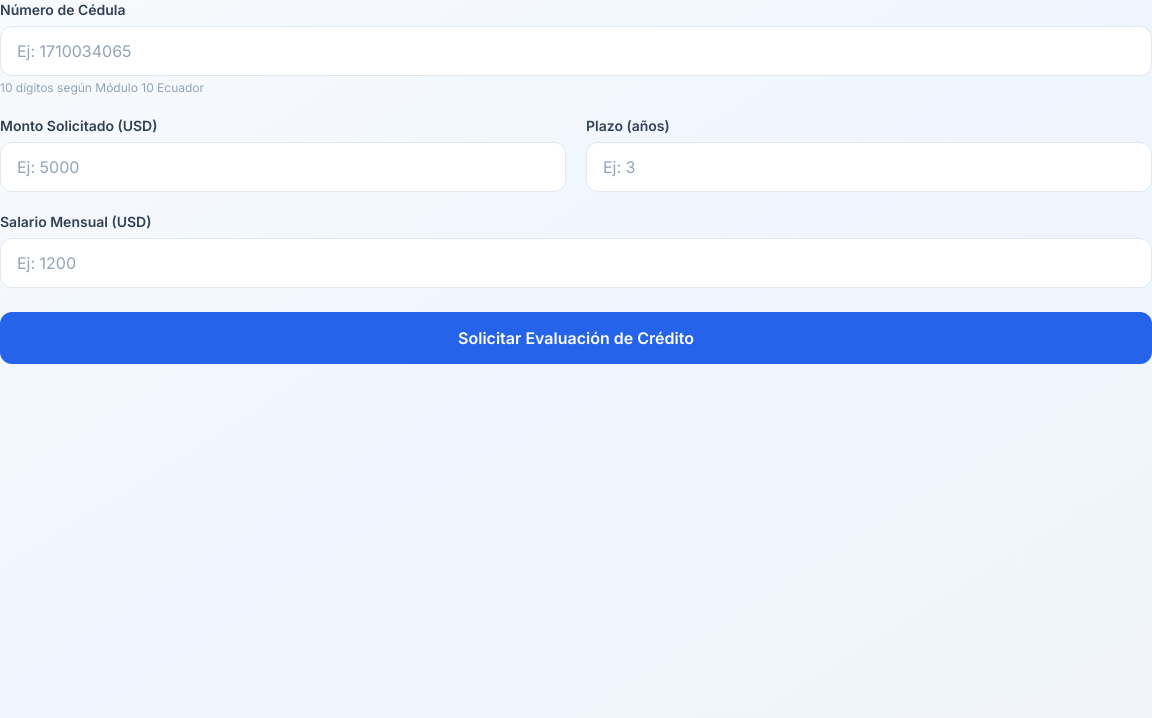
Test case: EvaluationForm › submits the form and shows result on success
The image size is (1152, 718).
Type "1710034065" into the field labelled "Número de Cédula".
click(576, 51); type("1710034065")  # box [0, 26, 1151, 76]
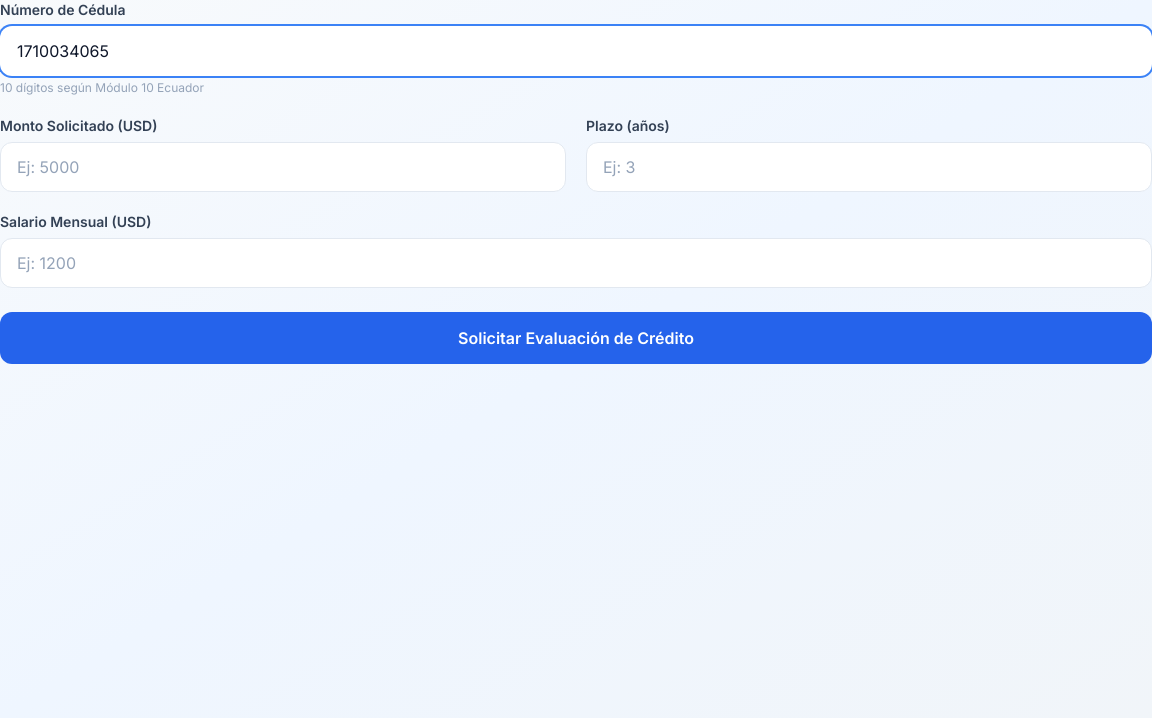
Type "5000" into the number field labelled "Monto Solicitado (USD)".
click(283, 167); type("5000")  # box [0, 142, 566, 192]
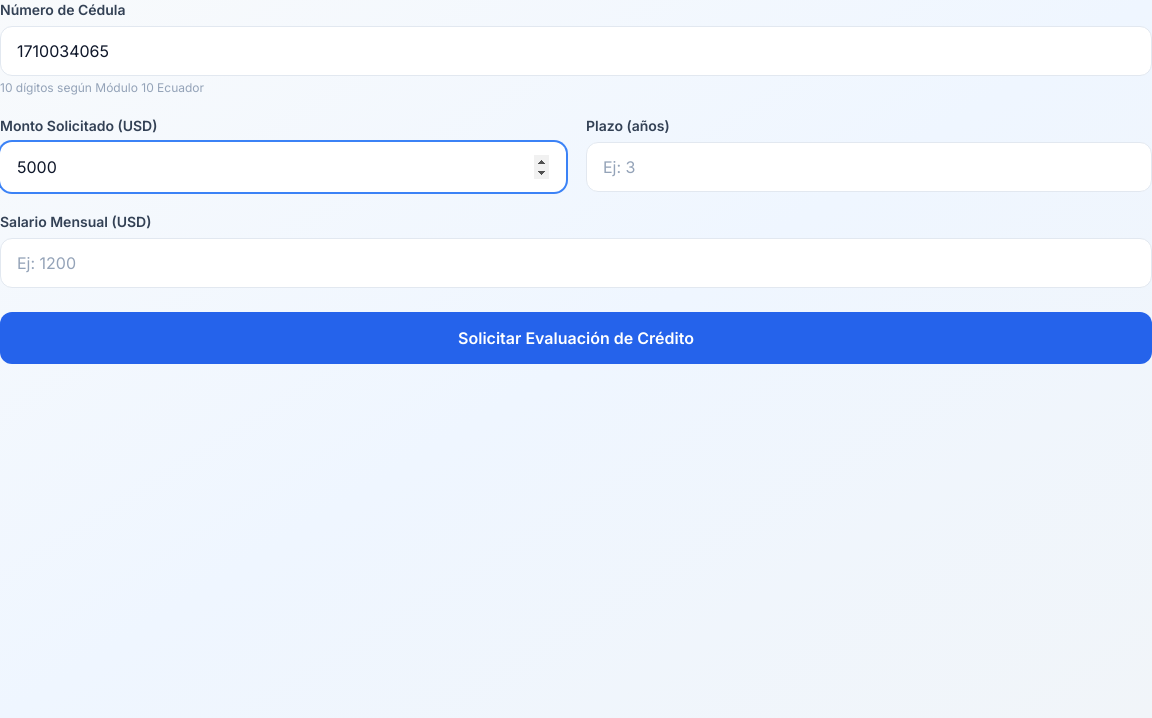
Type "3" into the number field labelled "Plazo (años)".
click(869, 167); type("3")  # box [586, 142, 1151, 192]
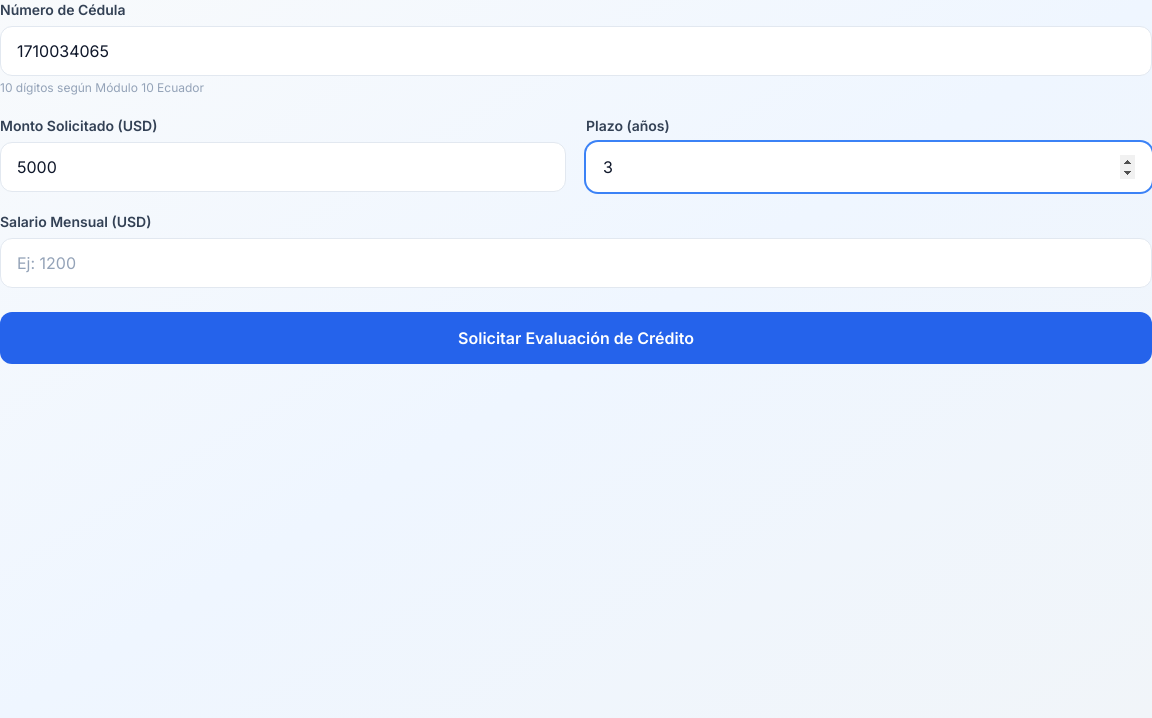
Type "1200" into the number field labelled "Salario Mensual (USD)".
click(576, 263); type("1200")  # box [0, 238, 1151, 288]
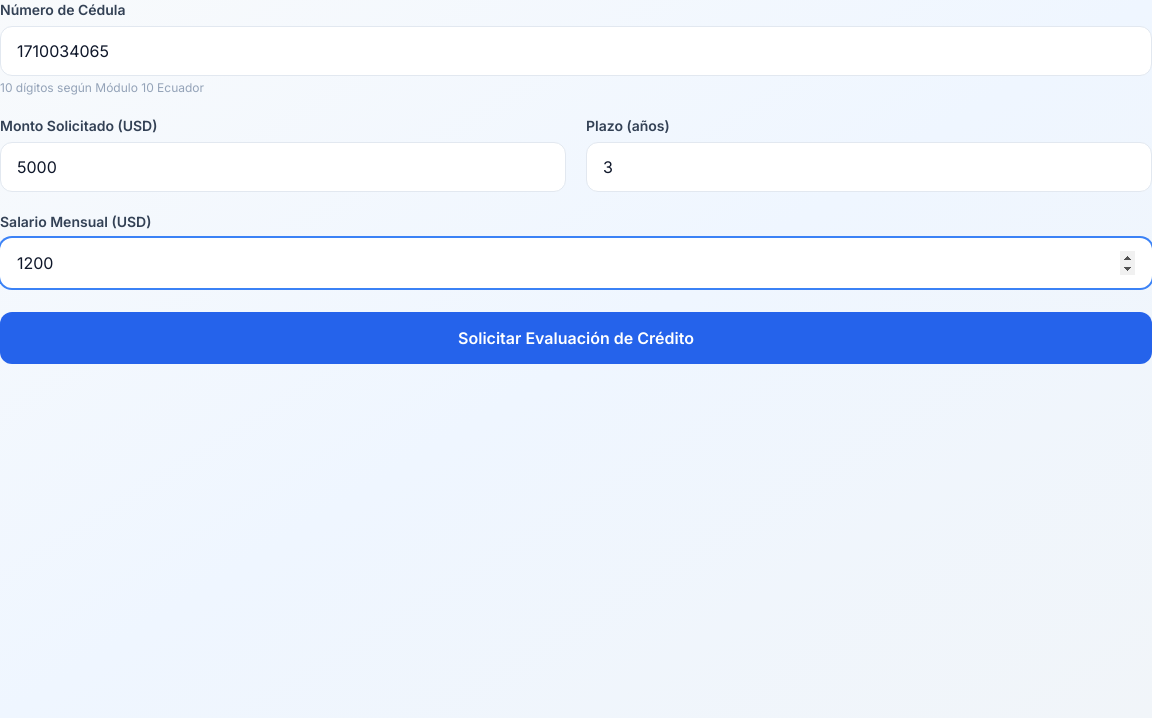
Click the button "Solicitar Evaluación de Crédito".
click(576, 338)  # box [0, 312, 1151, 364]
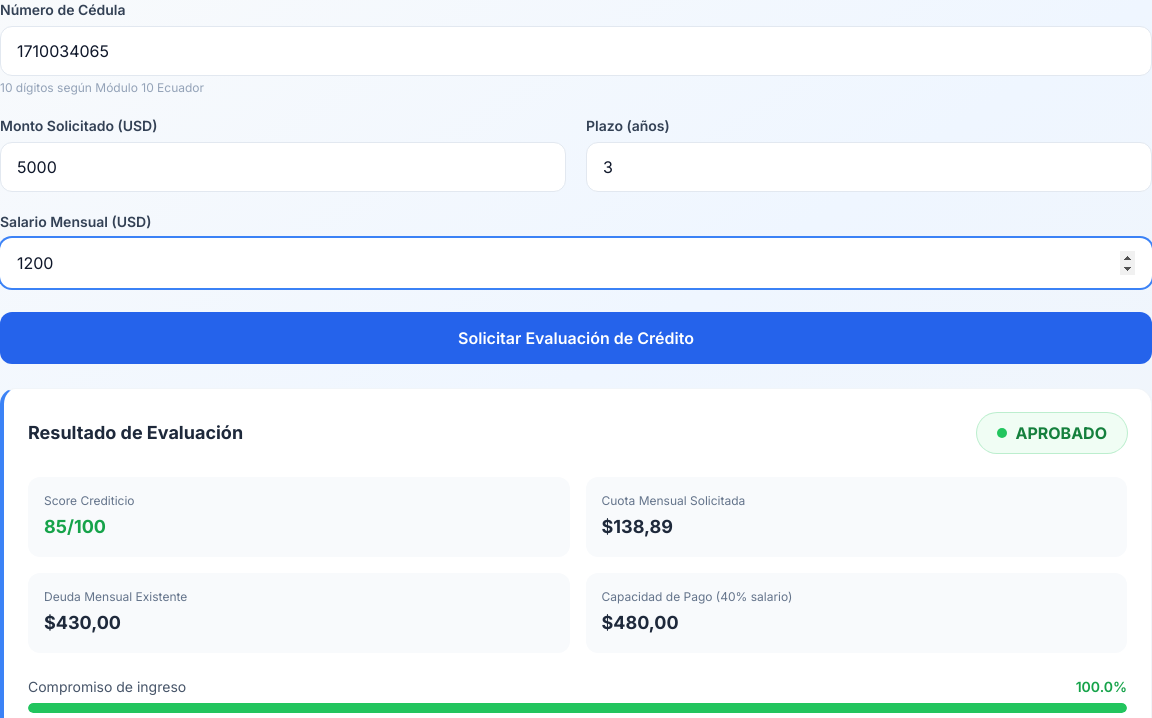
Expected: the heading "Resultado de Evaluación" is shown, [28, 419, 243, 447]
Expected: the text "APROBADO" is shown, [977, 413, 1127, 453]
